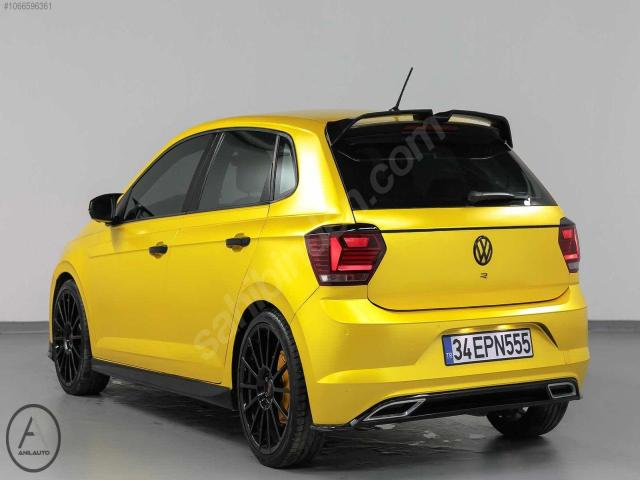plaka: (443, 328, 533, 366)
